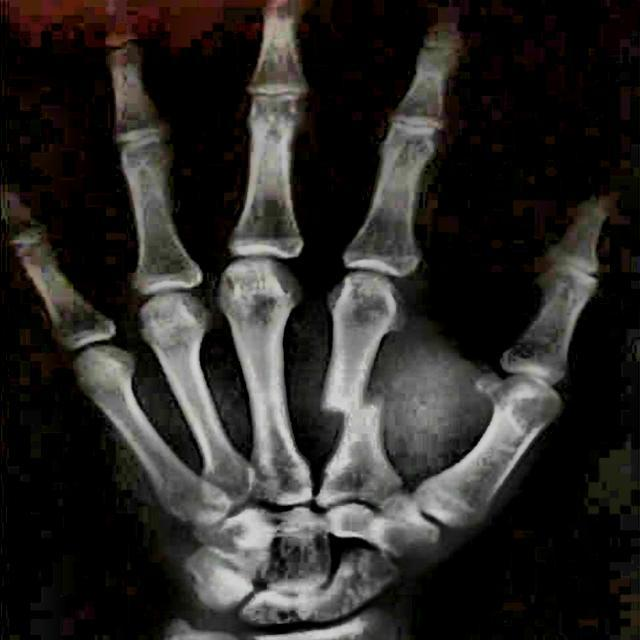fracture: (326, 394, 379, 422)
